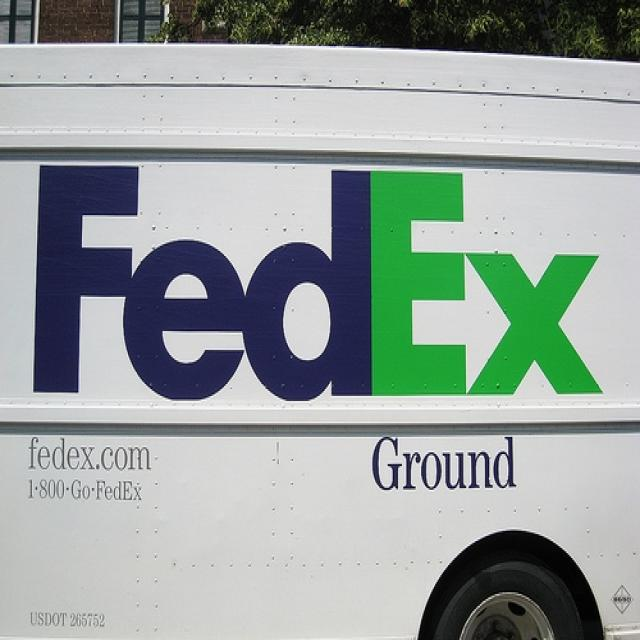fedex: (27, 158, 610, 407)
